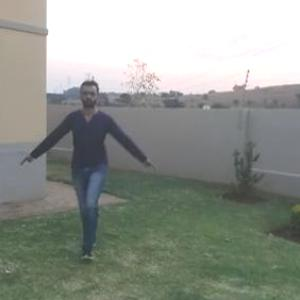land: (43, 85, 151, 224)
